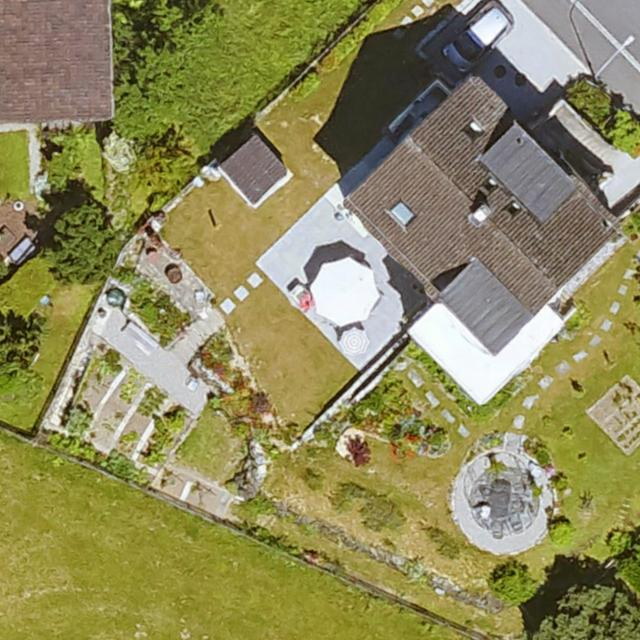tree: (46, 195, 120, 284), (536, 586, 640, 640)
